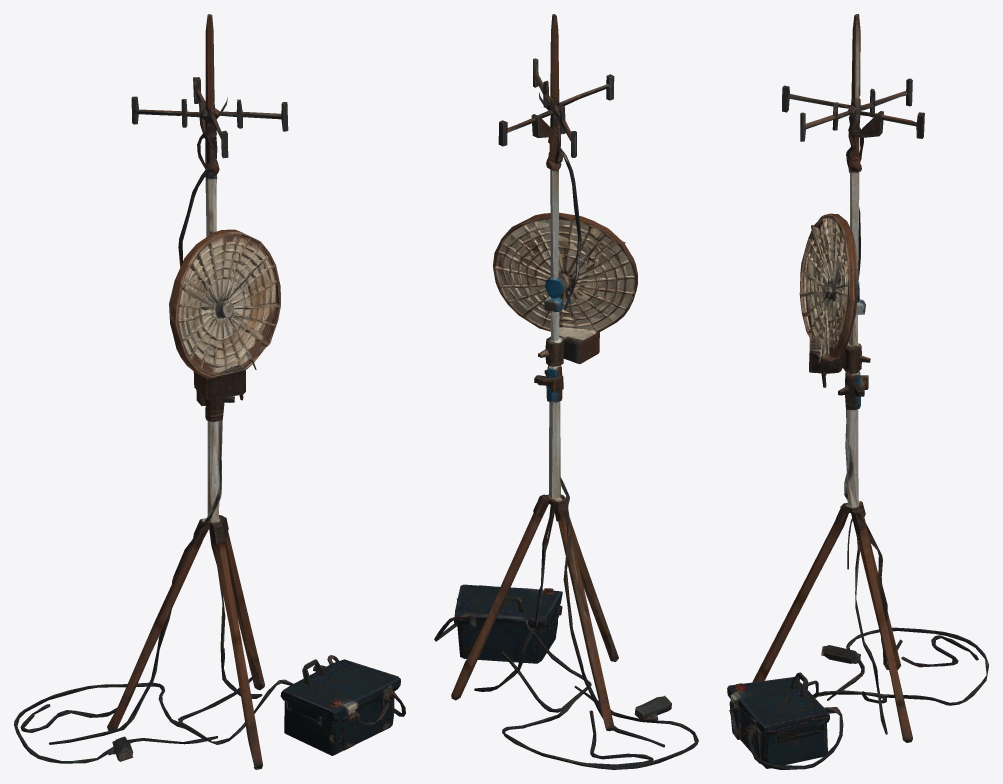
File: antenne_brouilleur.glb
3 renders of one model, left to right at view 1: azimuth 30°, elevation 25°; view 2: azimuth 150°, elevation 25°; view 3: azimuth 270°, elevation 25°, orthographic. The views are drawn at different scales.
Size of the model in its own units: 0.8692 by 1.91 by 0.6519.
Materials: 1 (1 with a texture image).
